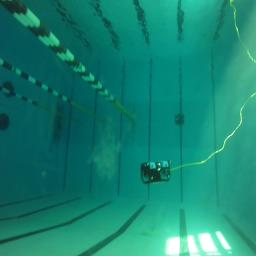front: (140, 158, 173, 185)
